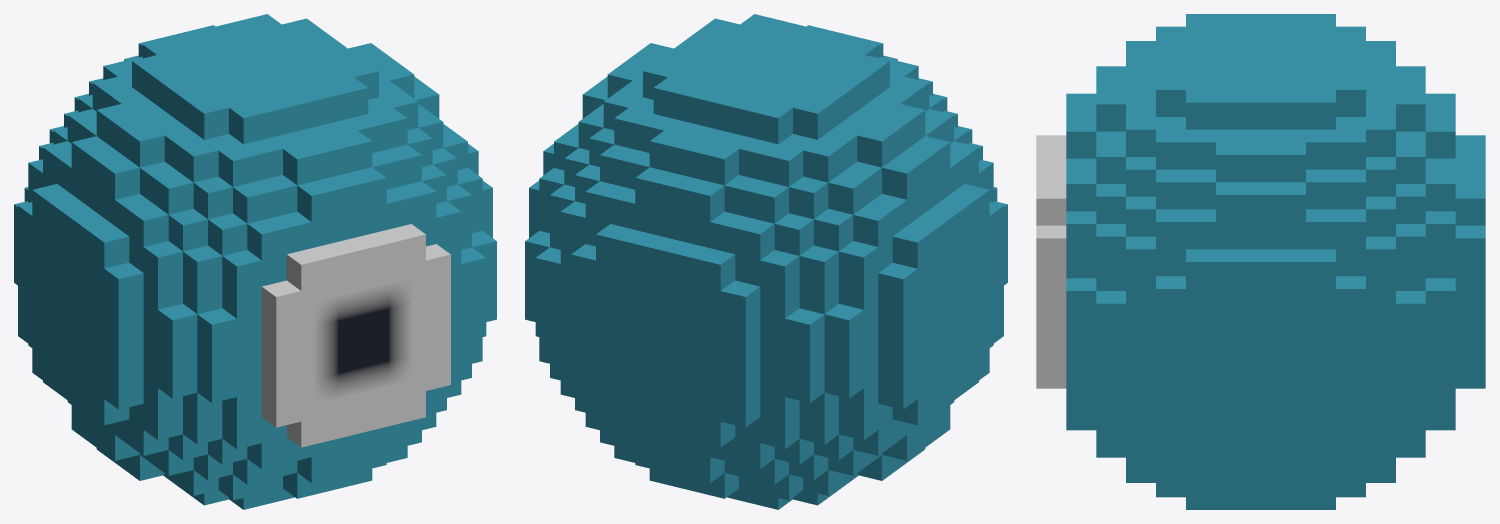
The model's file is eye.fbx.
The picture shows the model from 3 angles, left to right: view 1: azimuth 30°, elevation 25°; view 2: azimuth 150°, elevation 25°; view 3: azimuth 270°, elevation 25°; orthographic projection. The views are drawn at different scales.
Visible parts, largest first — view 1: eye; view 2: eye; view 3: eye.
Boxes of the visible parts, x1=… form: eye: x1=14, y1=14, x2=496, y2=509; eye: x1=525, y1=14, x2=1007, y2=509; eye: x1=1036, y1=14, x2=1485, y2=509.
Size of the model in its own units: 15 by 15 by 15.
Materials: 1 (1 with a texture image).
